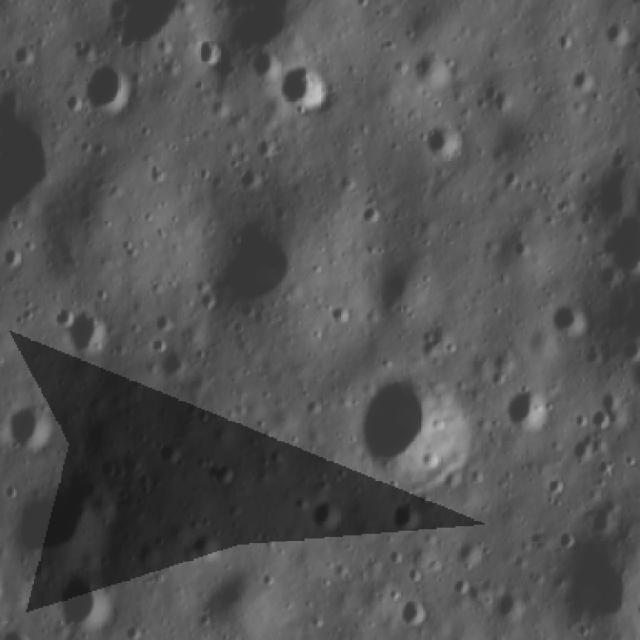crater: (202, 203, 322, 325), (353, 370, 470, 490), (7, 465, 105, 569), (561, 532, 639, 634), (368, 248, 442, 320), (48, 567, 121, 633), (72, 56, 145, 122), (51, 298, 117, 367), (272, 58, 337, 120), (3, 397, 62, 454), (502, 380, 558, 437), (406, 46, 462, 100), (542, 296, 596, 347), (419, 118, 466, 168), (147, 345, 195, 389), (306, 494, 349, 537), (153, 434, 193, 474), (189, 29, 228, 69), (494, 584, 531, 624), (396, 592, 432, 630), (455, 533, 490, 572), (566, 62, 600, 96)
